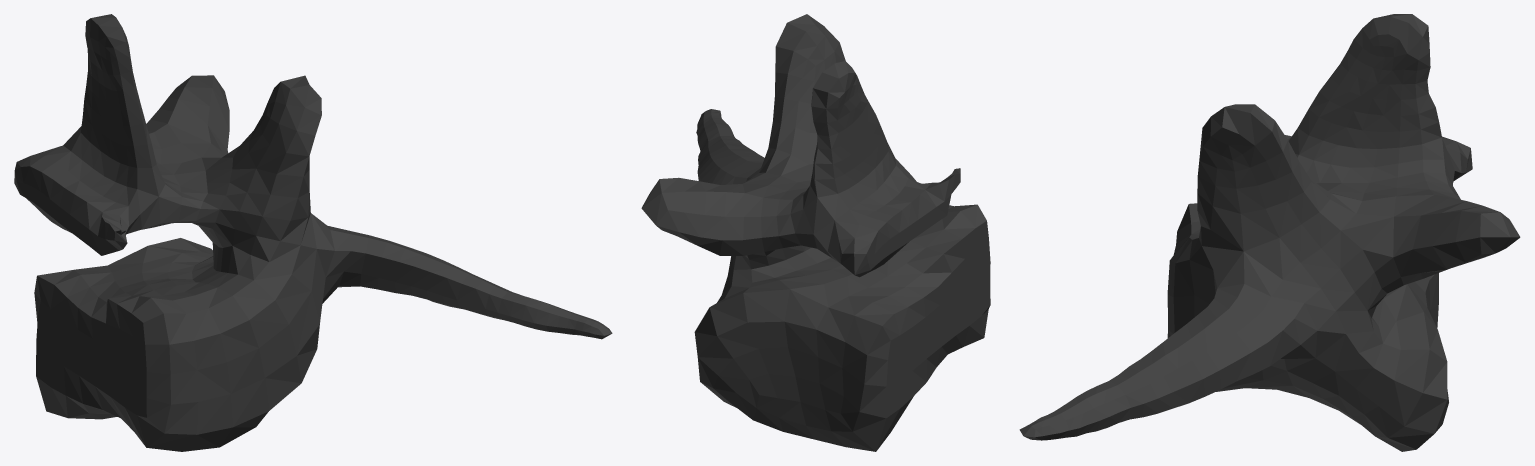
3 renders of one model, left to right at view 1: azimuth 30°, elevation 25°; view 2: azimuth 150°, elevation 25°; view 3: azimuth 270°, elevation 25°, orthographic. The views are drawn at different scales.
Parts seen in each view (by area): view 1: L7; view 2: L7; view 3: L7.
Boxes of the visible parts, x1,y1,x2,y2 form: L7: (14, 14, 612, 451); L7: (641, 14, 990, 451); L7: (1019, 14, 1520, 451).
Bounding box in the file's own units: 0.0116 × 0.0115 × 0.013.
Materials: 1 (1 with a texture image).
